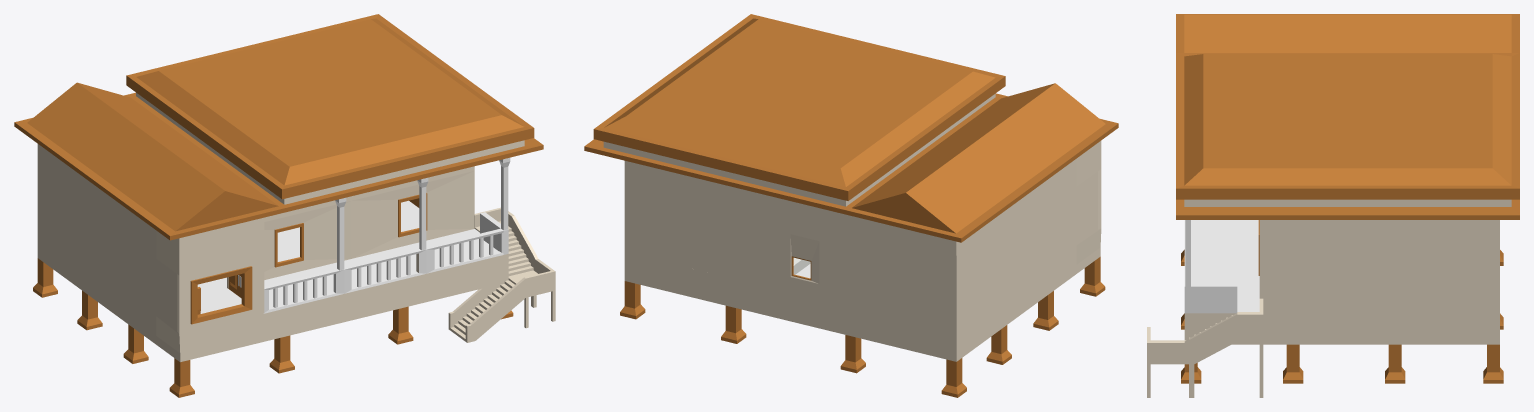
The model's file is Rumah.fbx.
3 views of the same model, side by side, from view 1: azimuth 30°, elevation 25°; view 2: azimuth 150°, elevation 25°; view 3: azimuth 270°, elevation 25° (orthographic). The views are drawn at different scales.
Visible parts, largest first — view 1: atap, pondasi, tangga, pondasi.002, pondasi.003, pondasi.004, pondasi.014, pondasi.010, pondasi.006; view 2: atap, pondasi, pondasi.014, pondasi.016, pondasi.013, pondasi.015, pondasi.002, pondasi.010, pondasi.006; view 3: atap, pondasi, tangga, pondasi.005, pondasi.009, pondasi.013.
Boxes of the visible parts, <box> form: atap: <box>14,14,543,240</box>; pondasi: <box>37,144,510,362</box>; tangga: <box>448,207,555,342</box>; pondasi.002: <box>169,358,194,397</box>; pondasi.003: <box>269,335,294,373</box>; pondasi.004: <box>388,306,413,344</box>; pondasi.014: <box>33,258,57,297</box>; pondasi.010: <box>77,290,102,330</box>; pondasi.006: <box>123,324,148,363</box>; atap: <box>584,14,1118,242</box>; pondasi: <box>624,141,1101,361</box>; pondasi.014: <box>941,358,966,397</box>; pondasi.016: <box>721,305,746,343</box>; pondasi.013: <box>620,281,645,319</box>; pondasi.015: <box>840,335,865,373</box>; pondasi.002: <box>1080,256,1105,296</box>; pondasi.010: <box>986,325,1011,364</box>; pondasi.006: <box>1033,291,1058,330</box>; atap: <box>1176,14,1519,219</box>; pondasi: <box>1184,220,1499,344</box>; tangga: <box>1147,298,1263,397</box>; pondasi.005: <box>1283,344,1303,383</box>; pondasi.009: <box>1385,344,1405,383</box>; pondasi.013: <box>1483,344,1503,383</box>.
Bounding box in the file's own units: 1868 × 930 × 1463.
